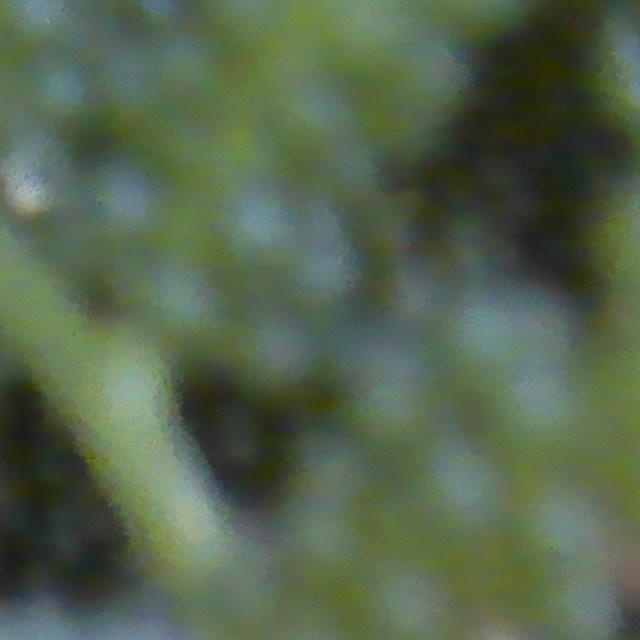SeaGrape: (480, 374, 594, 478), (431, 294, 530, 393), (404, 448, 504, 539), (515, 479, 610, 568), (337, 374, 433, 460), (228, 309, 319, 396), (387, 34, 474, 122), (359, 561, 455, 640), (221, 186, 304, 271), (87, 160, 165, 241), (541, 569, 619, 640), (23, 53, 95, 126)
